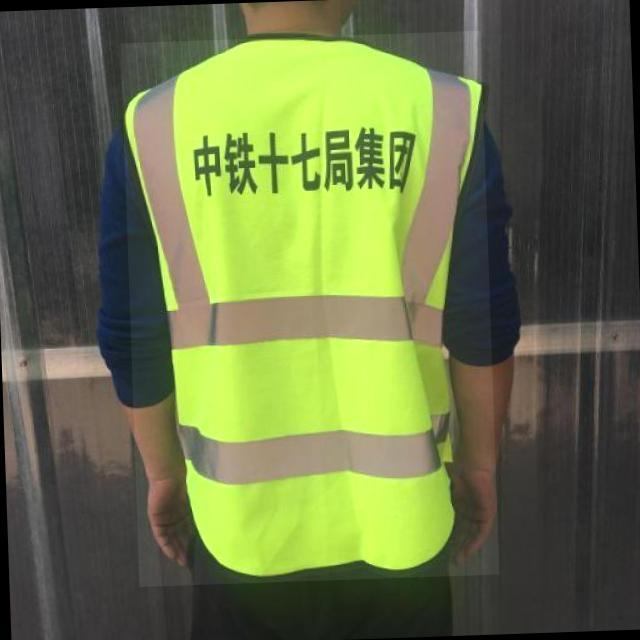Person: (59, 3, 548, 639)
Safety Vest: (121, 31, 500, 587)
bare-arms: (128, 480, 205, 577), (450, 465, 500, 574)
